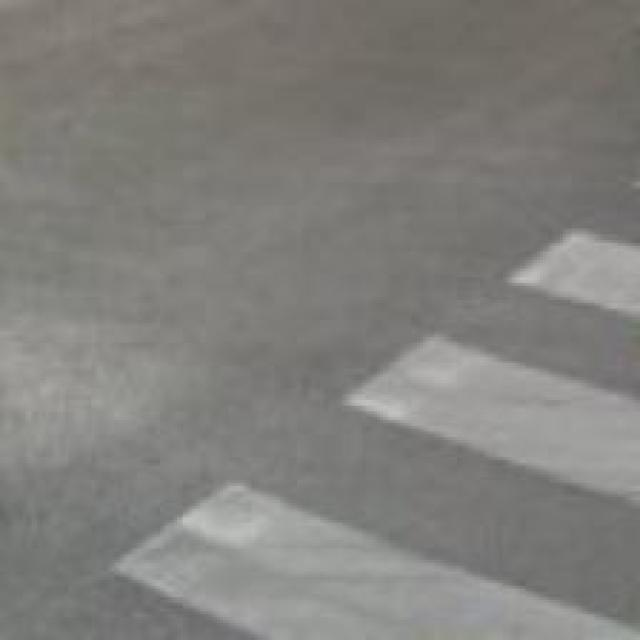walk-crossing: (119, 229, 640, 636)
